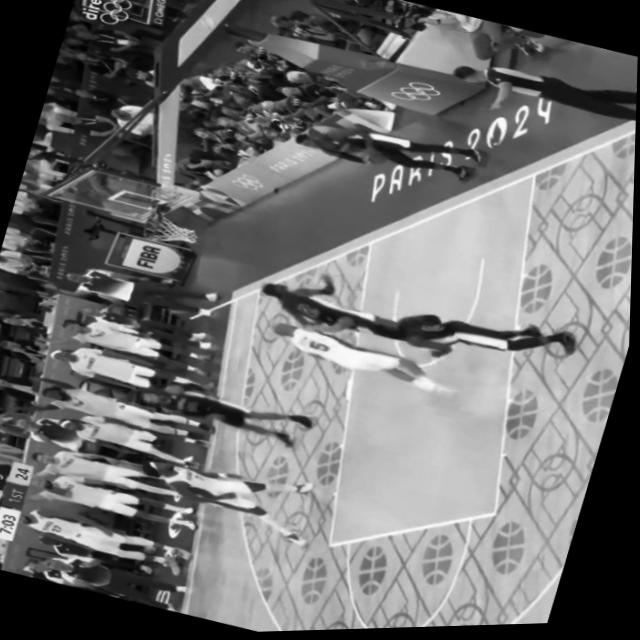ball_handler: (290, 99, 501, 205)
